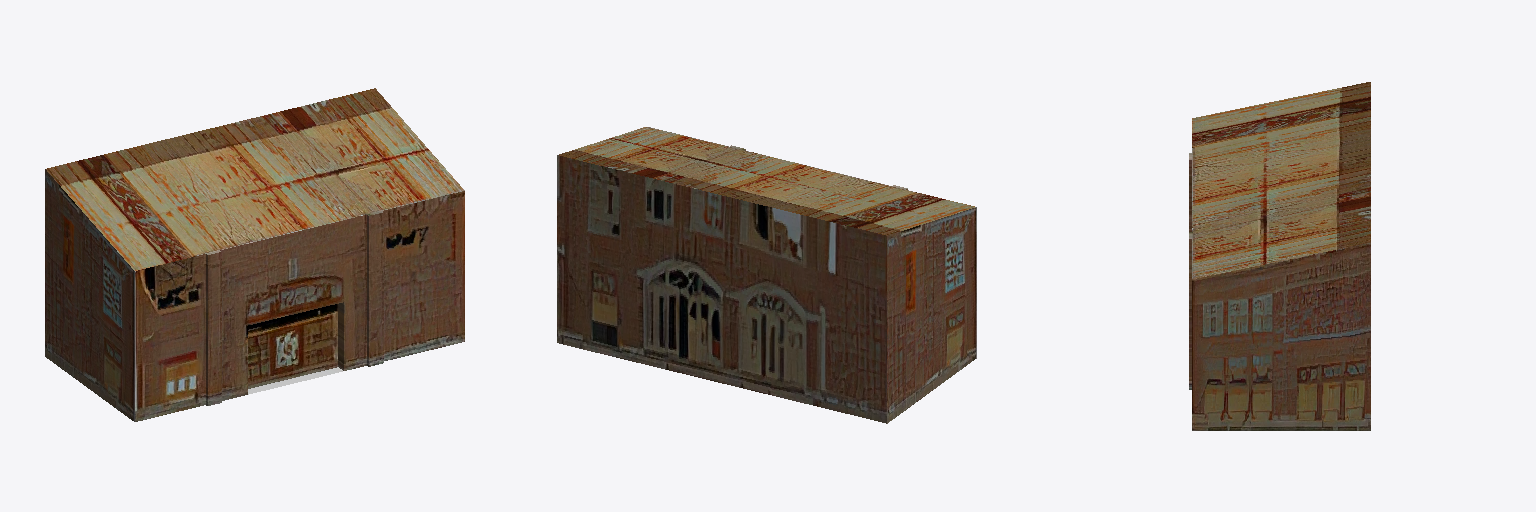
3 views of the same model, side by side, from view 1: azimuth 30°, elevation 25°; view 2: azimuth 150°, elevation 25°; view 3: azimuth 270°, elevation 25° (orthographic).
Parts seen in each view (by area): view 1: Bodega; view 2: Bodega; view 3: Bodega.
Part boxes in pixels (x1,y1,x2,y2): Bodega: (45,88,464,421); Bodega: (557,127,976,423); Bodega: (1189,82,1370,430).
Bounding box in the file's own units: 15.29 × 8.31 × 7.33.
Materials: 1 (1 with a texture image).